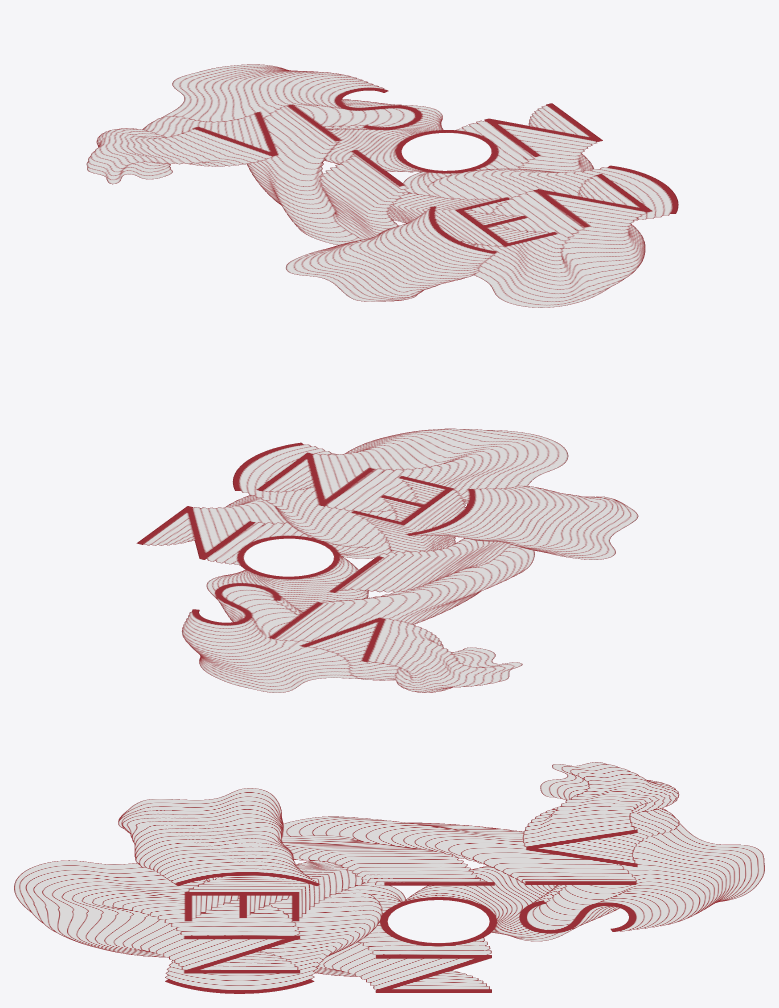
Rendered from Visionen.glb.
3 renders of one model, top to bottom at view 1: azimuth 30°, elevation 25°; view 2: azimuth 150°, elevation 25°; view 3: azimuth 270°, elevation 25°, orthographic. The views are drawn at different scales.
Visible parts, largest first — view 1: landing; view 2: landing; view 3: landing.
Boxes of the visible parts, x1,y1,x2,y2 form: landing: (86, 64, 678, 307); landing: (136, 428, 638, 692); landing: (14, 762, 764, 993).
Size of the model in its own units: 3.01 by 3.76e-06 by 4.12.
Materials: 1 (1 with a texture image).
